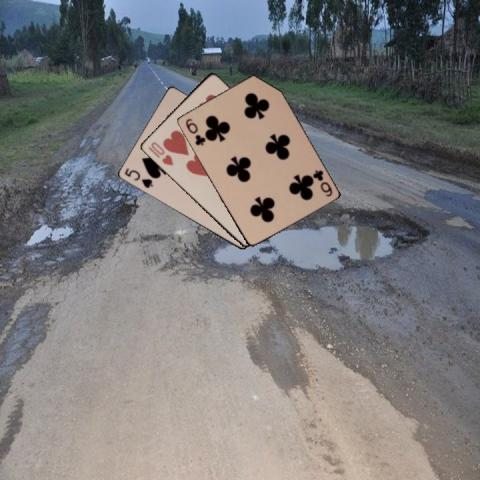10h: (145, 139, 174, 168)
5s: (121, 165, 154, 190)
6c: (182, 115, 207, 147), (310, 167, 334, 198)
